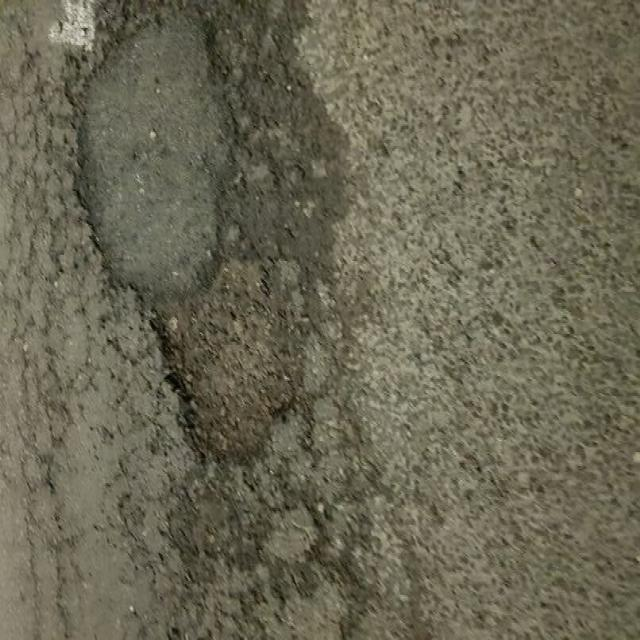Pothole: (144, 250, 306, 475)
